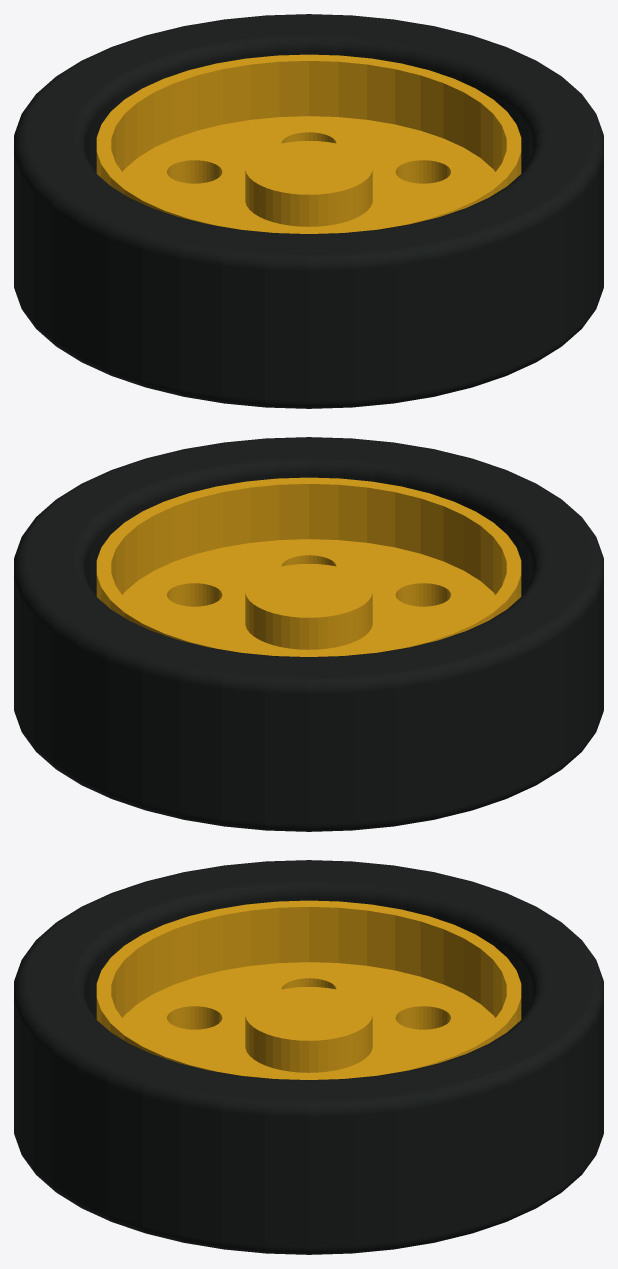
File: front_right_wheel_link.obj
3 renders of one model, top to bottom at view 1: azimuth 30°, elevation 25°; view 2: azimuth 150°, elevation 25°; view 3: azimuth 270°, elevation 25°, orthographic.
Parts seen in each view (by area): view 1: tyre_0, rim_1; view 2: tyre_0, rim_1; view 3: tyre_0, rim_1.
Part boxes in pixels (left/top/right/bottom): tyre_0: left=14, top=14, right=603, bottom=408; rim_1: left=96, top=54, right=521, bottom=233; tyre_0: left=14, top=437, right=603, bottom=831; rim_1: left=96, top=477, right=521, bottom=656; tyre_0: left=14, top=860, right=603, bottom=1254; rim_1: left=96, top=900, right=521, bottom=1079.
Bounding box in the file's own units: 0.84 × 0.24 × 0.8377.
